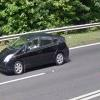Car: (4, 26, 75, 83)
